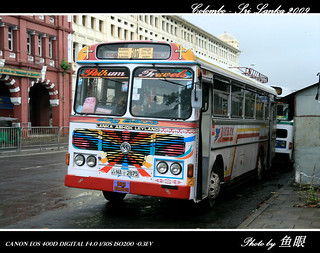bus: (64, 38, 277, 208)
